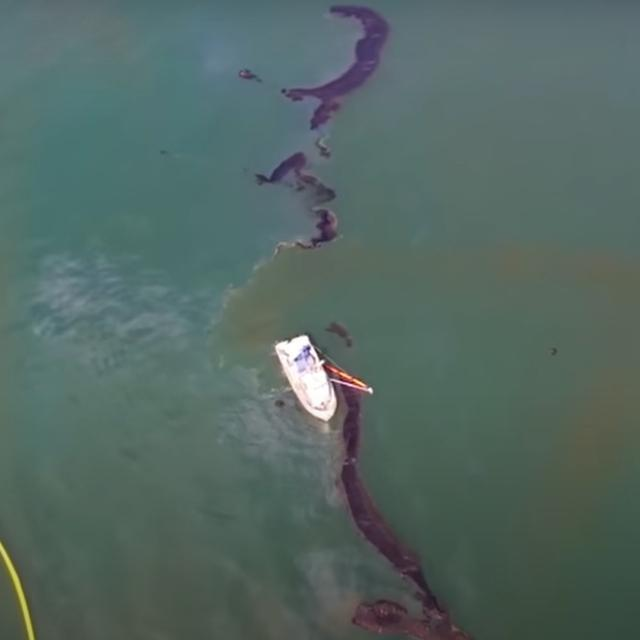truecolor: (316, 347, 472, 640), (282, 4, 391, 128), (256, 151, 338, 254)
